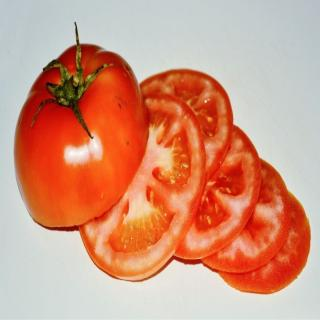Tomat: (14, 22, 150, 231)
